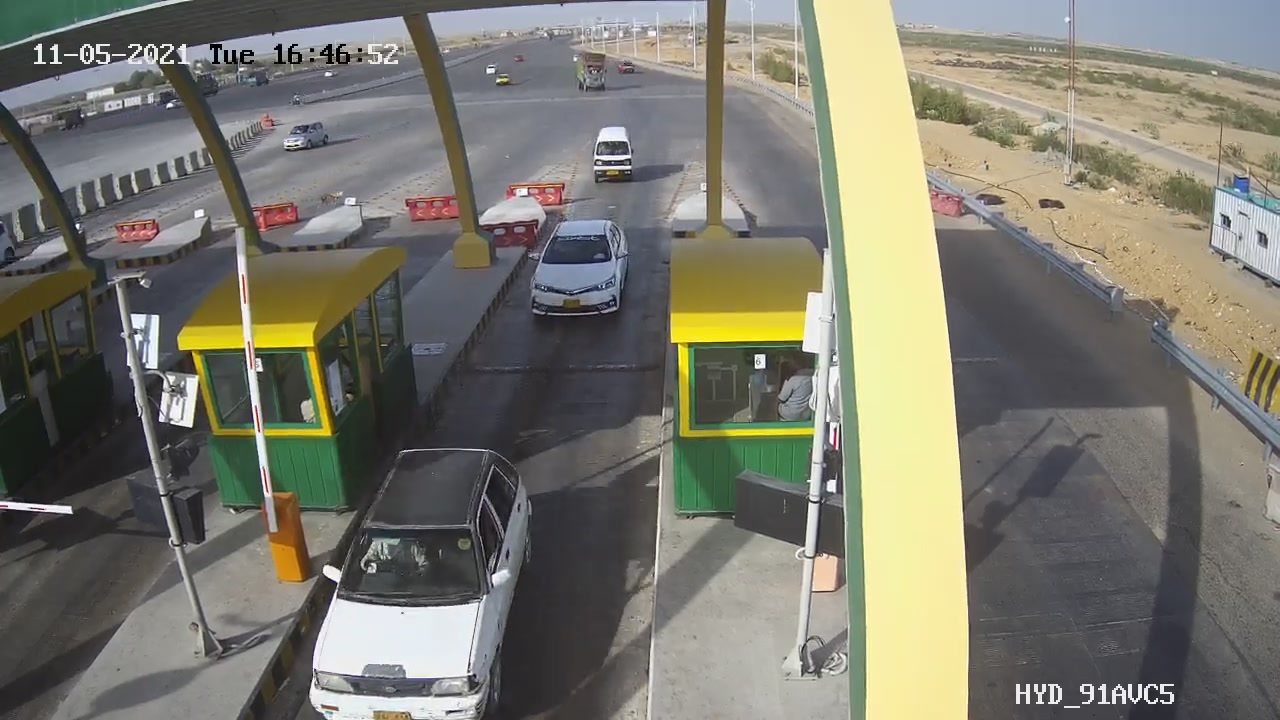F1: (509, 206, 646, 337)
